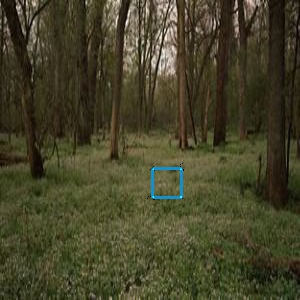square: (149, 164, 185, 201)
